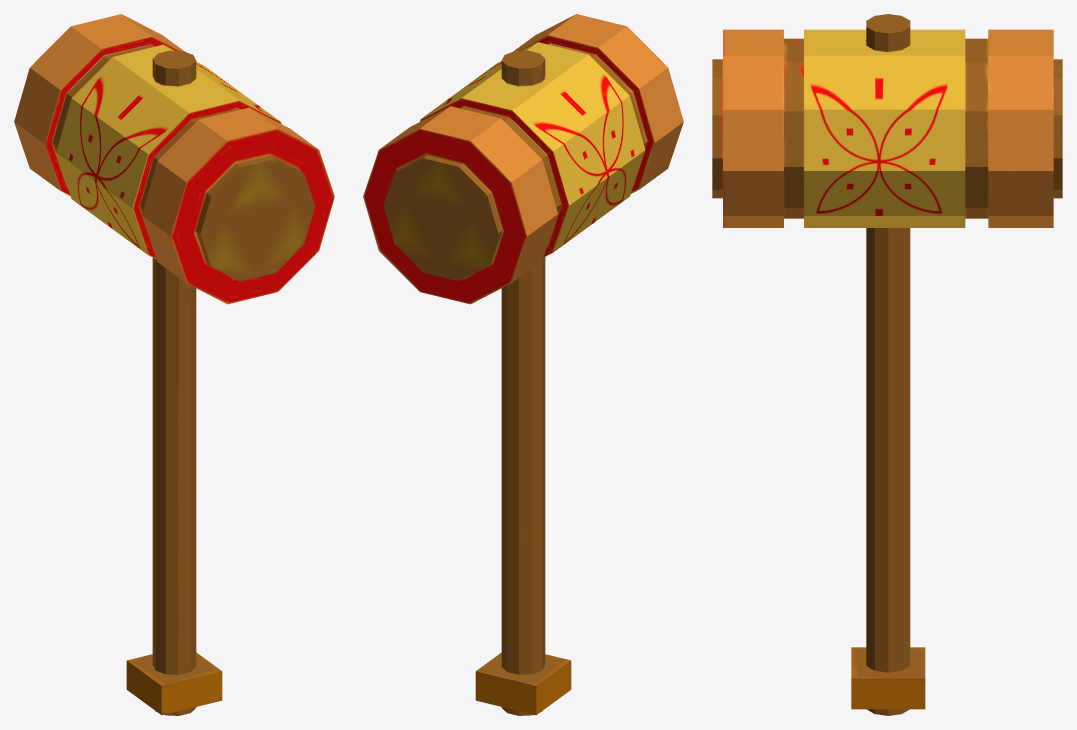
File: hammer.fbx
3 renders of one model, left to right at view 1: azimuth 30°, elevation 25°; view 2: azimuth 150°, elevation 25°; view 3: azimuth 270°, elevation 25°, orthographic. The views are drawn at different scales.
Visible parts, largest first — view 1: pCylinder3; view 2: pCylinder3; view 3: pCylinder3.
Boxes of the visible parts, x1,y1,x2,y2 form: pCylinder3: (14,14,334,715); pCylinder3: (363,14,683,715); pCylinder3: (712,14,1062,715).
Size of the model in its own units: 2.71 by 10.22 by 4.75.
1 material, 1 textured.
